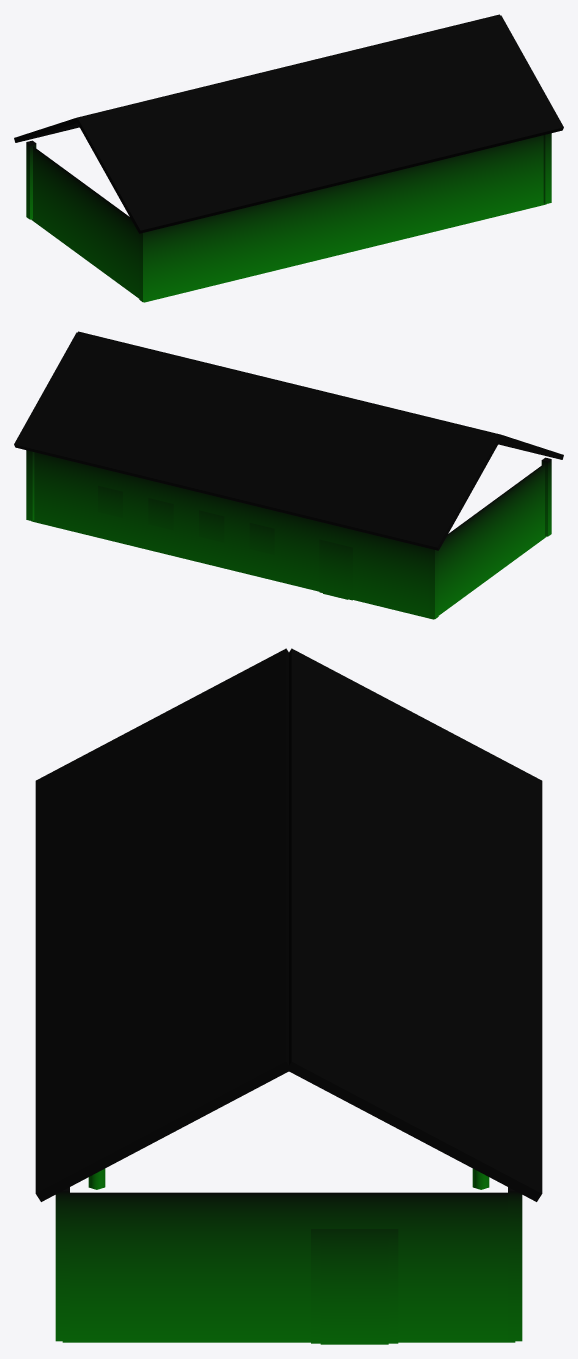
File: s_barracks.glb
The picture shows the model from 3 angles, top to bottom: view 1: azimuth 30°, elevation 25°; view 2: azimuth 150°, elevation 25°; view 3: azimuth 270°, elevation 25°; orthographic projection. The views are drawn at different scales.
Parts seen in each view (by area): view 1: lod0; view 2: lod0; view 3: lod0.
Boxes of the visible parts, x1,y1,x2,y2 form: lod0: (14, 14, 563, 302); lod0: (14, 331, 563, 619); lod0: (35, 648, 542, 1344).
Size of what is drawn, in the model's own units: 20.1 by 6.61 by 10.41.
